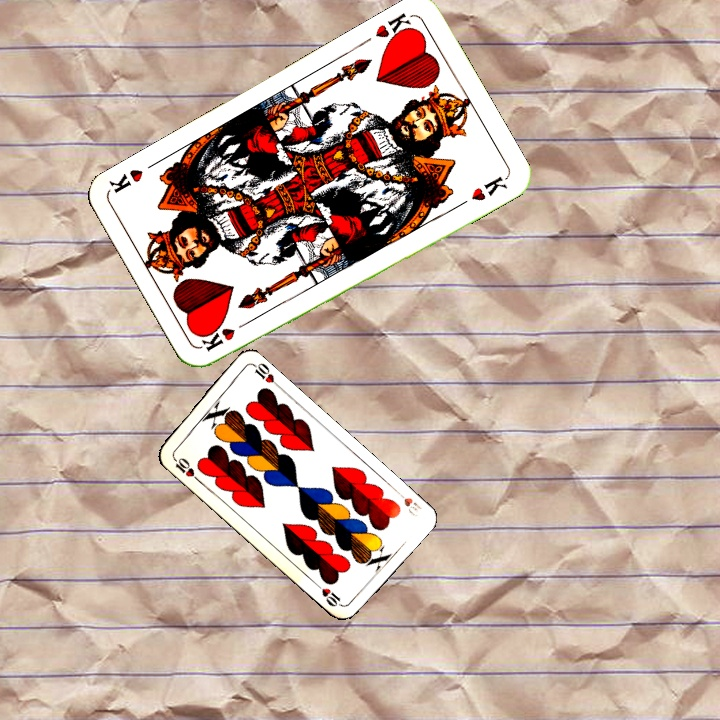H10: (391, 486, 425, 519), (168, 452, 201, 484)
HK: (199, 315, 254, 354), (371, 9, 418, 48)
